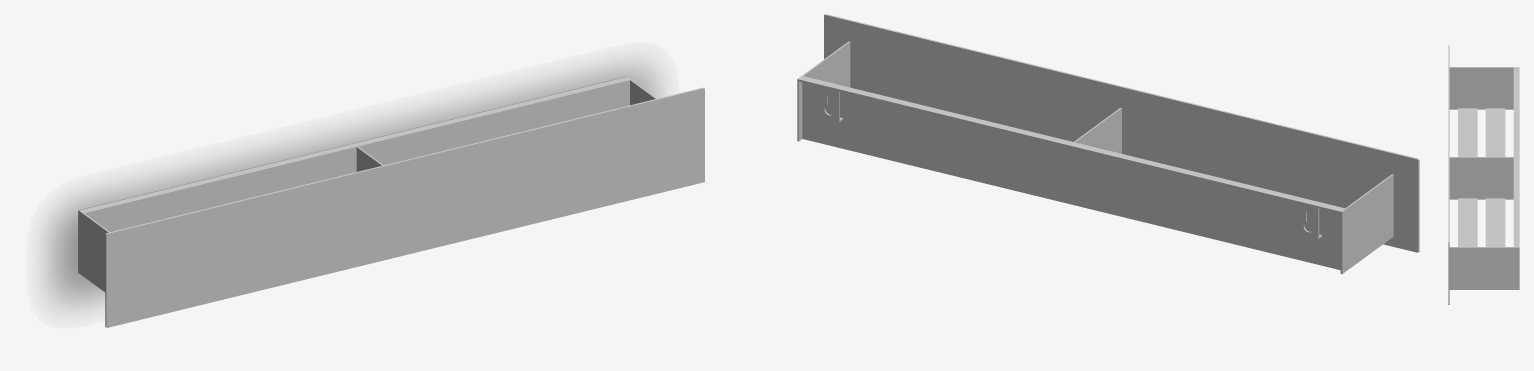
The model's file is skyline-mono.06b61e86cc.ar.glb.
3 views of the same model, side by side, from view 1: azimuth 30°, elevation 25°; view 2: azimuth 150°, elevation 25°; view 3: azimuth 270°, elevation 25° (orthographic). The views are drawn at different scales.
Visible parts, largest first — view 1: NAUO1, object 2; view 2: NAUO1; view 3: NAUO1.
Part boxes in pixels (x1,y1,x2,y2): NAUO1: [78, 76, 704, 327]; object 2: [46, 64, 659, 306]; NAUO1: [797, 14, 1419, 273]; NAUO1: [1448, 45, 1519, 304].
Size of the model in its own units: 0.68 by 0.17 by 0.092.
Materials: 2 (1 with a texture image).
